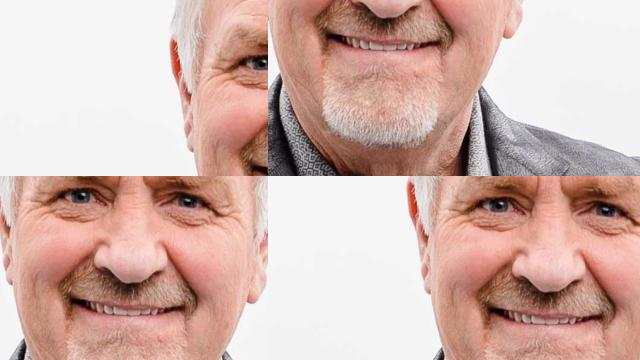crows_feet: (320, 8, 358, 60), (545, 0, 575, 45), (445, 200, 473, 224), (625, 211, 640, 236)
frown_line: (528, 176, 546, 197), (555, 176, 570, 194), (132, 0, 150, 10)
gummy_smile: (370, 87, 406, 155), (516, 98, 544, 170), (586, 266, 618, 304), (481, 259, 509, 283), (160, 61, 178, 92), (102, 60, 118, 90)
